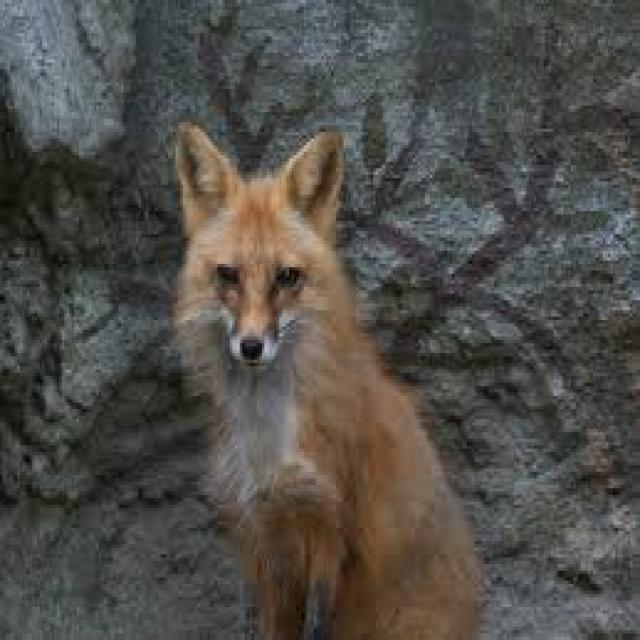fox: (168, 116, 489, 636)
